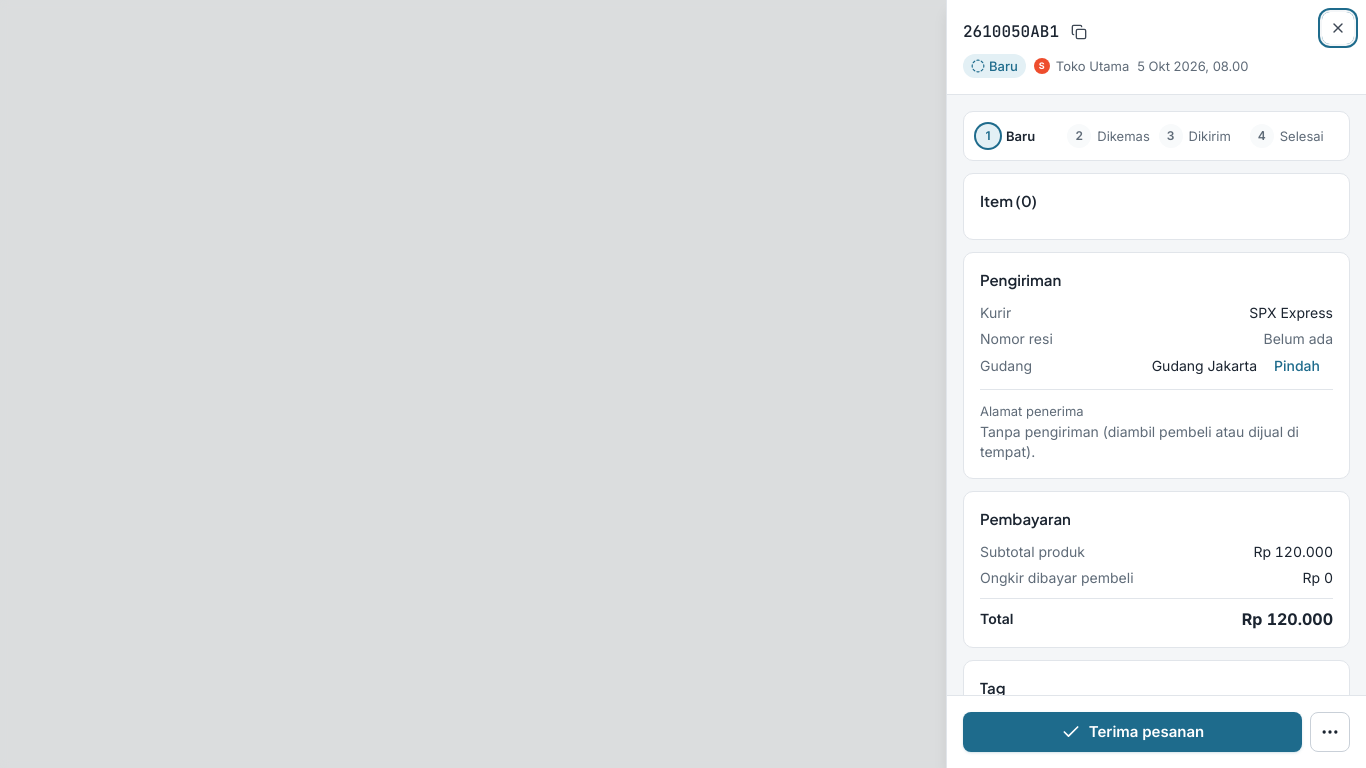
Test case: OrderDetailSheet: warehouse, tracking, and tags › moves an order nobody packed to another warehouse
Expected: the text "Gudang Jakarta" is shown, x1=1152 y1=357 x2=1257 y2=374
Click the button named "Aksi lain" at (1330, 732), box x1=1310 y1=712 x2=1350 y2=752
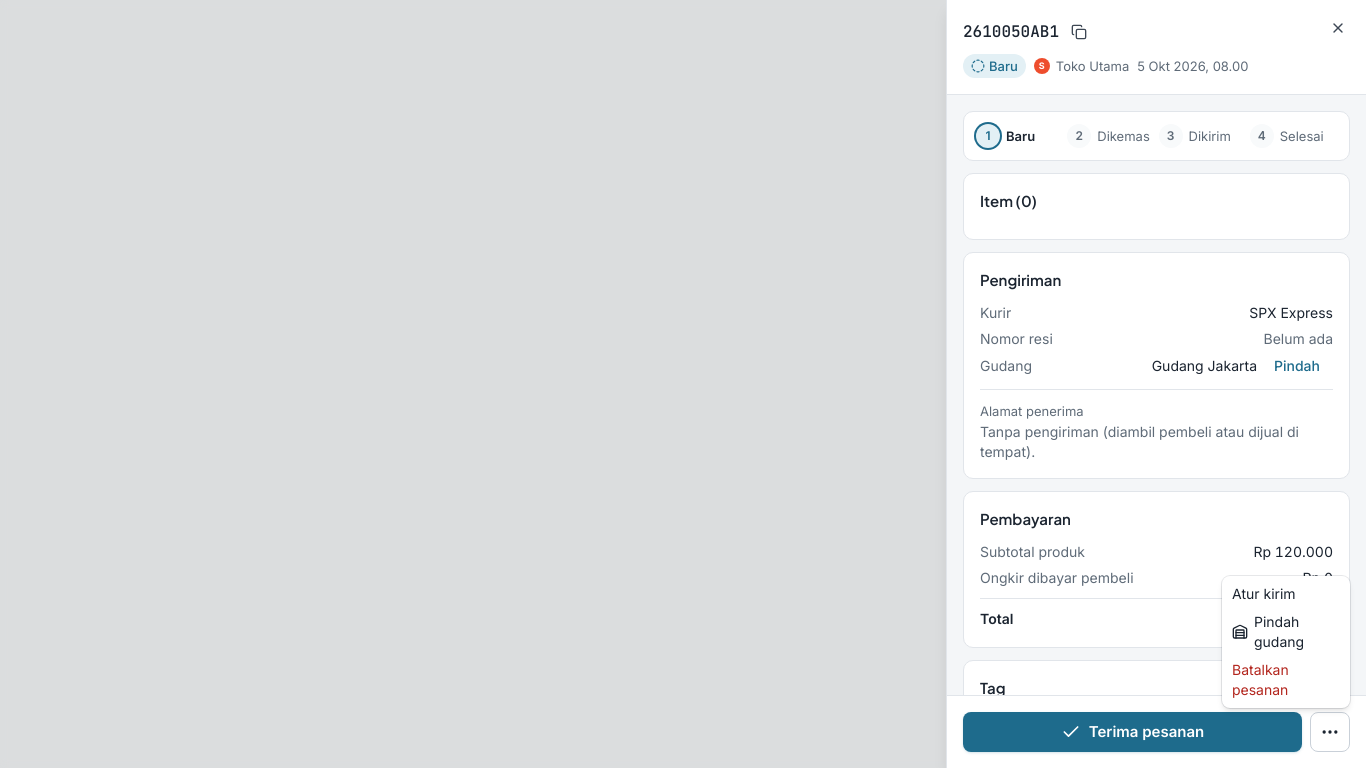
Click the menu item "Pindah gudang" at (1268, 632), box x1=1232 y1=613 x2=1304 y2=650
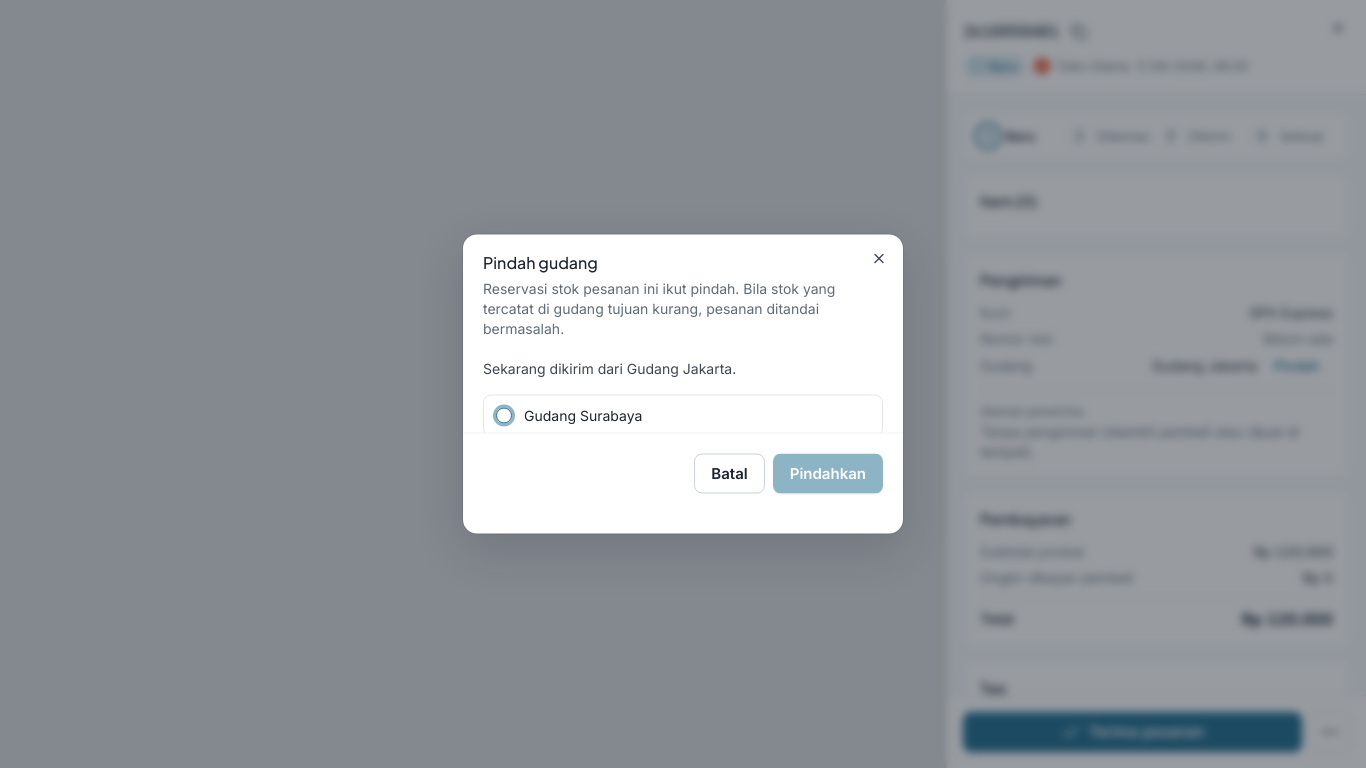
Now the text "Sekarang dikirim dari Gudang Jakarta." is shown, box x1=483 y1=360 x2=736 y2=376
Now the number of radio buttons is 1
Now the button "Pindahkan" is disabled, box x1=773 y1=454 x2=883 y2=494
Click the radio button named "Gudang Surabaya" at (504, 416), box x1=496 y1=408 x2=512 y2=424
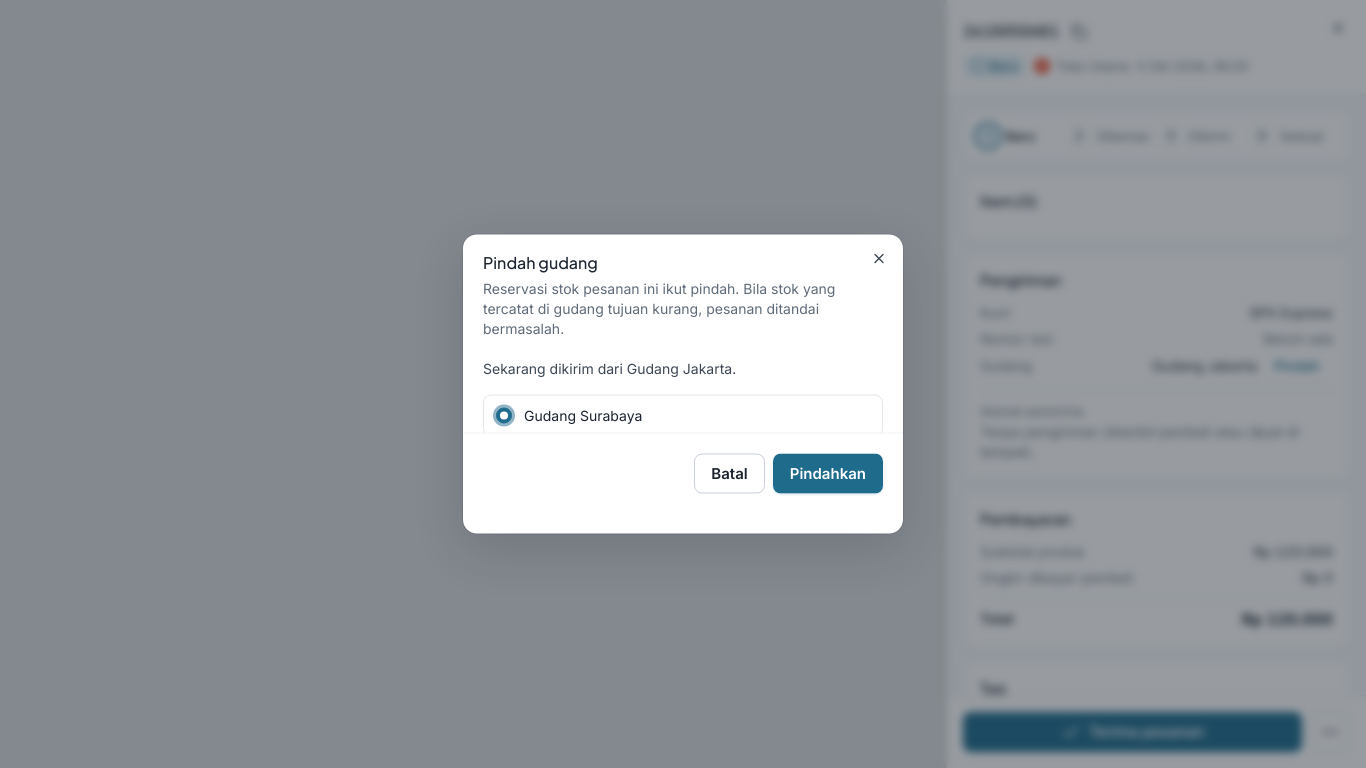
Click the button "Pindahkan" at (828, 474), box x1=773 y1=454 x2=883 y2=494
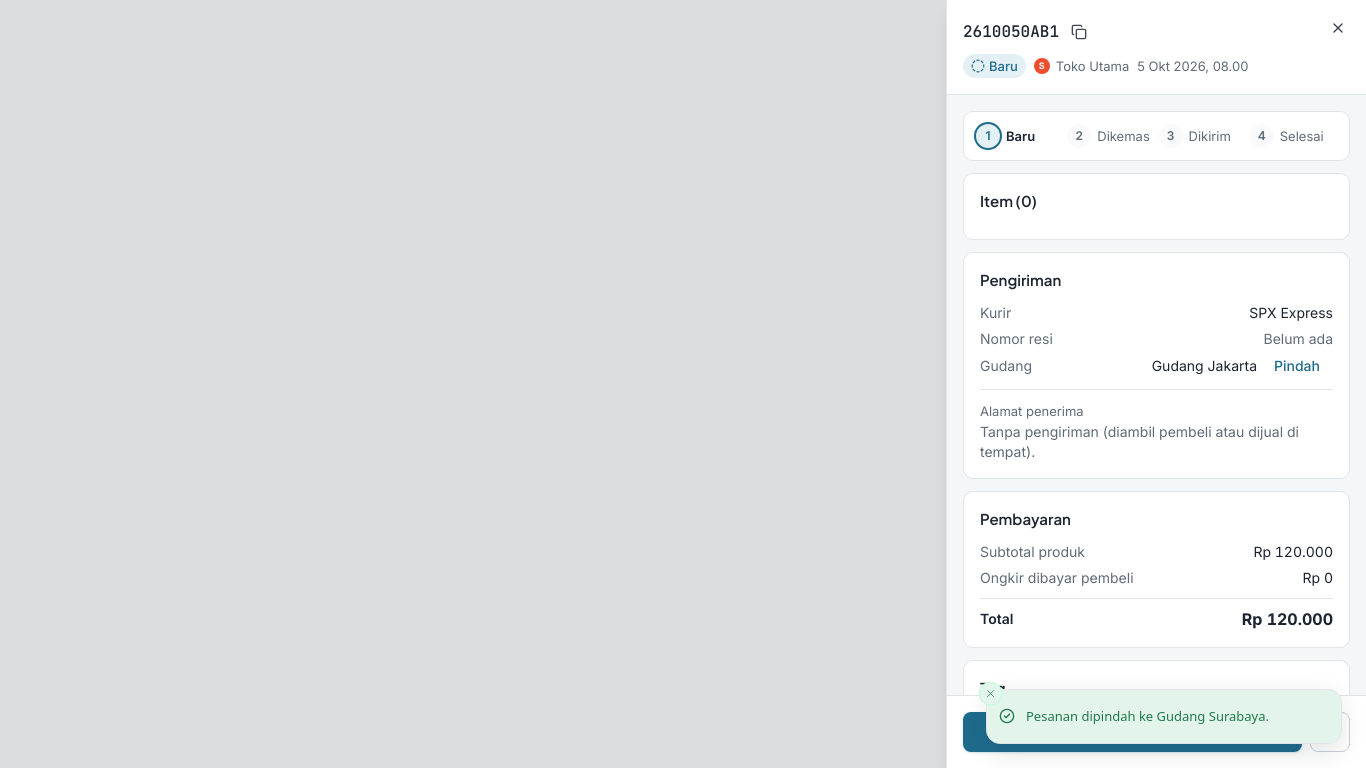
Now the text "Pesanan dipindah ke Gudang Surabaya." is shown, box x1=1026 y1=706 x2=1269 y2=727
